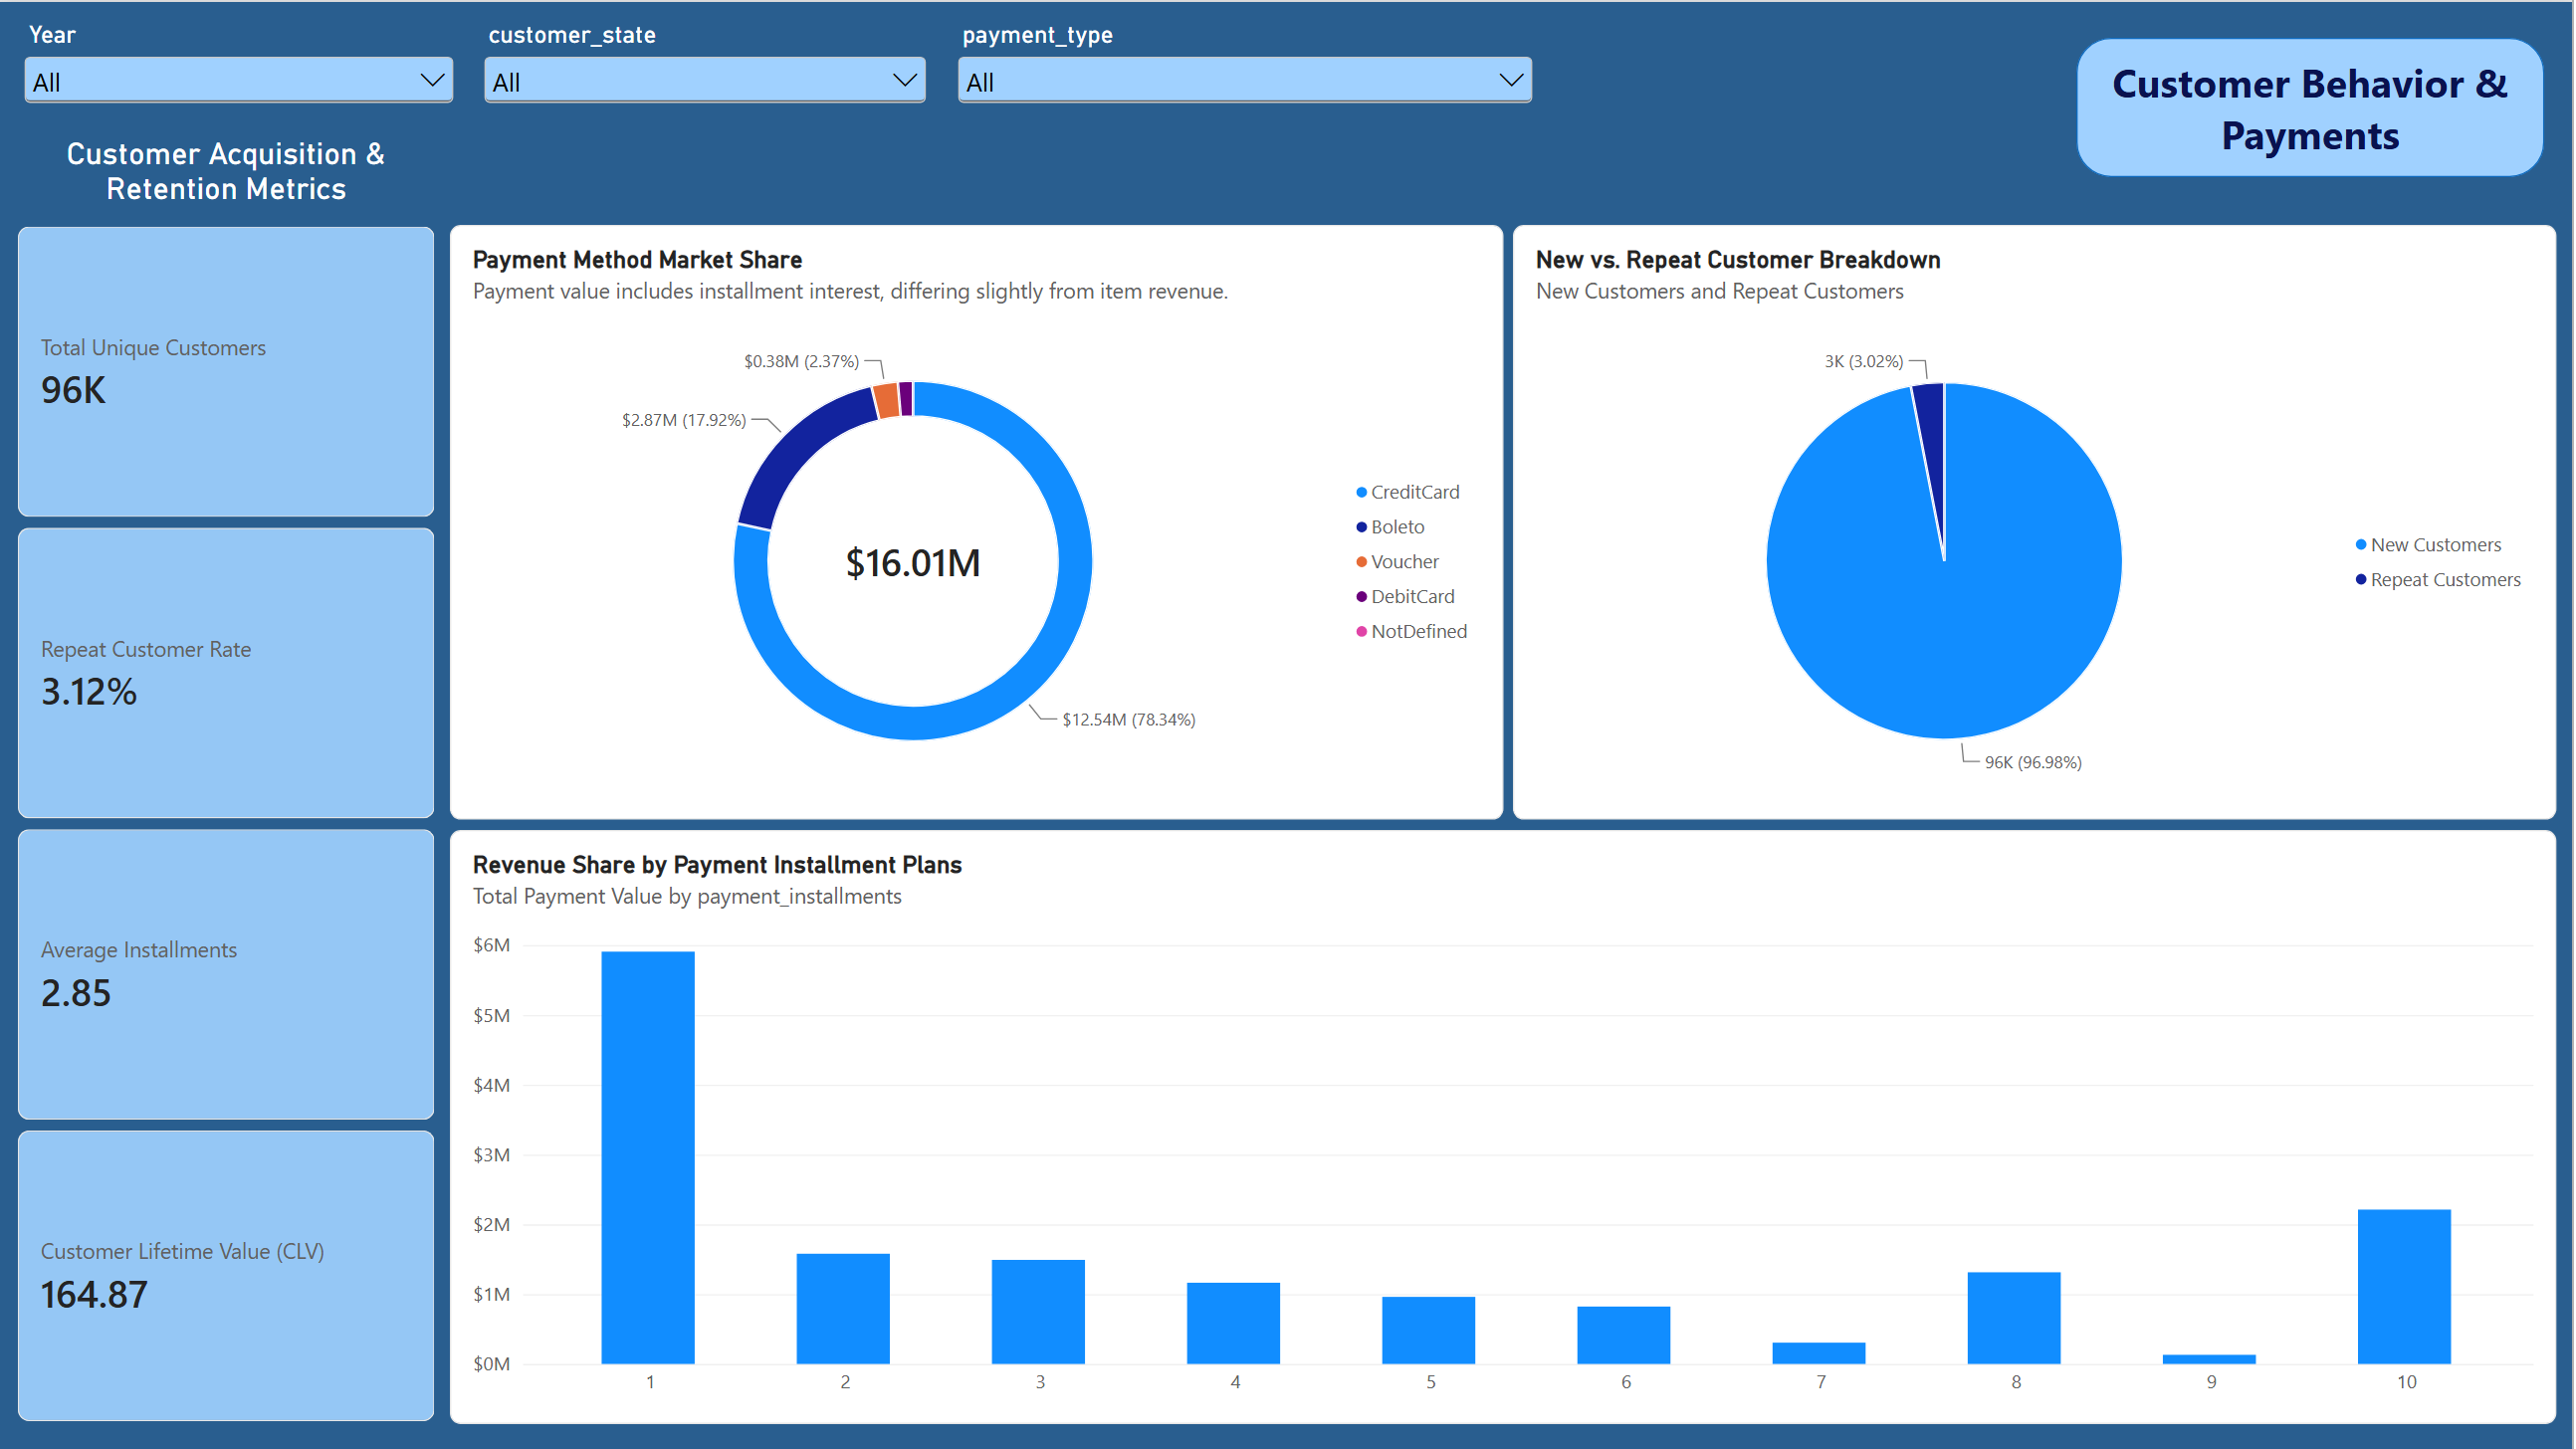

The dashboard page shown, as its layout file describes it:
{"tool":"powerbi","page":{"name":"Customer Behavior & Payments","canvas":[1920,1080],"ordinal":3},"visuals":[{"type":"cardVisual","title":"Customer Acquisition & Retention Metrics","fields":{"Data":["Measure.Total Unique Customers","Measure.Repeat Customer Rate","Measure.Average Installments","Measure.Customer Lifetime Value (CLV)"]},"box":[12.7,99.1,311,962.6],"z":0},{"type":"donutChart","title":"Payment Method Market Share","fields":{"Category":["olist_order_payments_dataset.payment_type"],"Y":["Measure.Total Payment Value"]},"box":[335.7,166.9,786.6,443.9],"z":1000},{"type":"clusteredColumnChart","title":"Revenue Share by Payment Installment Plans","fields":{"Category":["olist_order_payments_dataset.payment_installments"],"Y":["Measure.Total Payment Value"]},"box":[335.7,618.4,1572.5,443.7],"z":2000},{"type":"pieChart","title":"New vs. Repeat Customer Breakdown","fields":{"Y":["Measure.New Customers","Measure.Repeat Customers"]},"box":[1128.8,166.9,779.2,443.9],"z":3000},{"type":"slicer","fields":{"Values":["olist_customers_dataset.customer_state"]},"box":[356.3,13.7,339.5,85.4],"z":4000},{"type":"slicer","title":"Year","fields":{"Values":["DateTable.Year"]},"box":[12.7,13.7,330,74.9],"z":5000},{"type":"slicer","fields":{"Values":["olist_order_payments_dataset.payment_type"]},"box":[710.7,13.7,438.6,74.9],"z":6000},{"type":"shape","box":[1549.9,26.5,349.4,104],"z":7000}]}

Visuals, with their boxes in screenshot pixels (x1, y1, x2, y2), scaled from the page's 1920x1080 canvas onto the 2576x1449 screenshot:
"Customer Acquisition & Retention Metrics" cardVisual: box=[17, 133, 434, 1424]
"Payment Method Market Share" donutChart: box=[450, 224, 1506, 819]
"Revenue Share by Payment Installment Plans" clusteredColumnChart: box=[450, 830, 2560, 1425]
"New vs. Repeat Customer Breakdown" pieChart: box=[1515, 224, 2560, 819]
slicer - olist_customers_dataset.customer_state: box=[478, 18, 934, 133]
"Year" slicer: box=[17, 18, 460, 118]
slicer - olist_order_payments_dataset.payment_type: box=[954, 18, 1542, 118]
shape: box=[2079, 36, 2548, 175]
